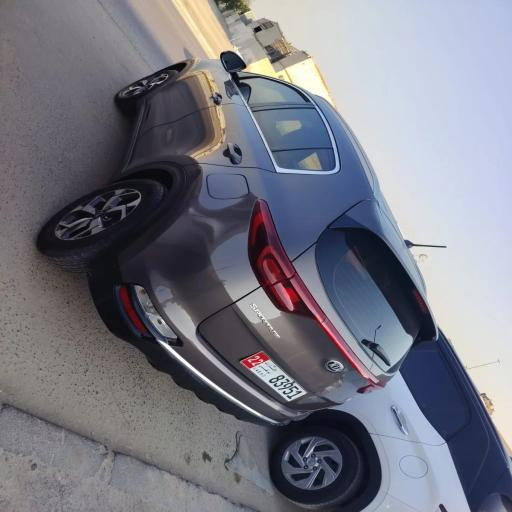license-plates: (240, 351, 308, 402)
